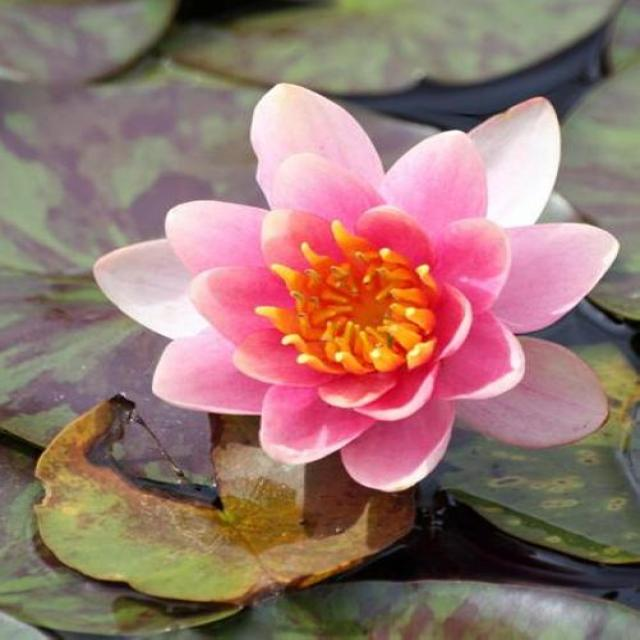rose: (78, 49, 640, 640)
